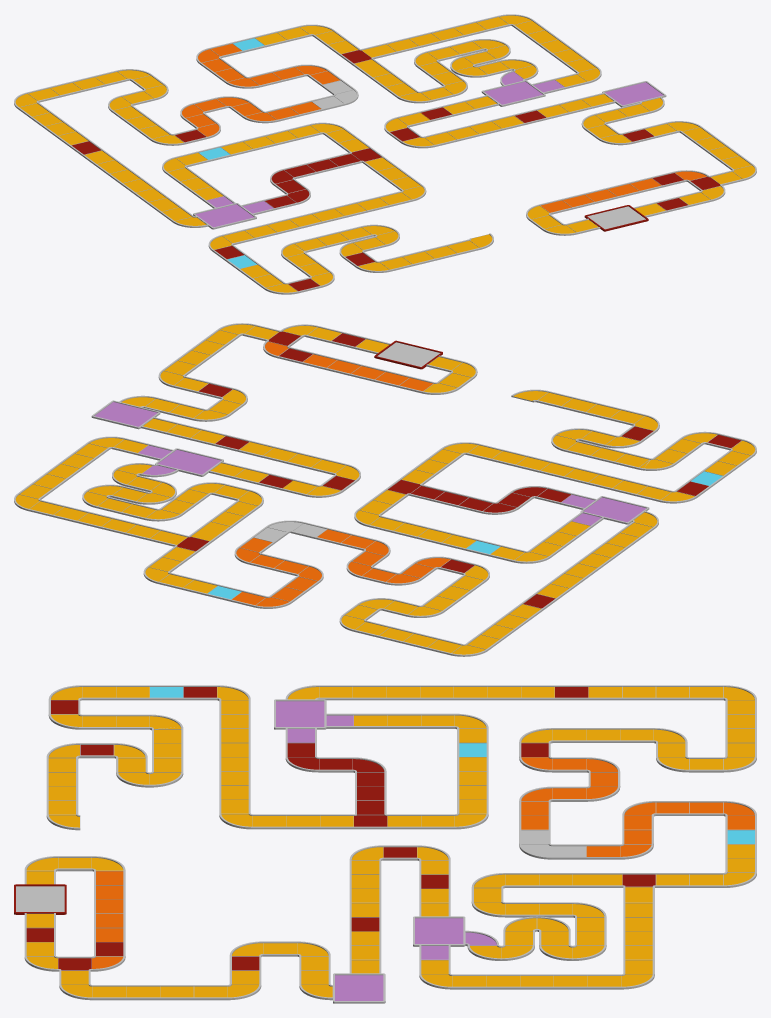
File: map1.obj
The picture shows the model from 3 angles, top to bottom: view 1: azimuth 30°, elevation 25°; view 2: azimuth 150°, elevation 25°; view 3: azimuth 270°, elevation 25°; orthographic projection. The views are drawn at different scales.
Visible parts, largest first — view 1: map; view 2: map; view 3: map.
Boxes of the visible parts, x1,y1,x2,y2 form: map: [14, 14, 756, 294]; map: [14, 323, 756, 656]; map: [14, 685, 756, 1003].
Bounding box in the file's own units: 1780 × 5 × 1765.
